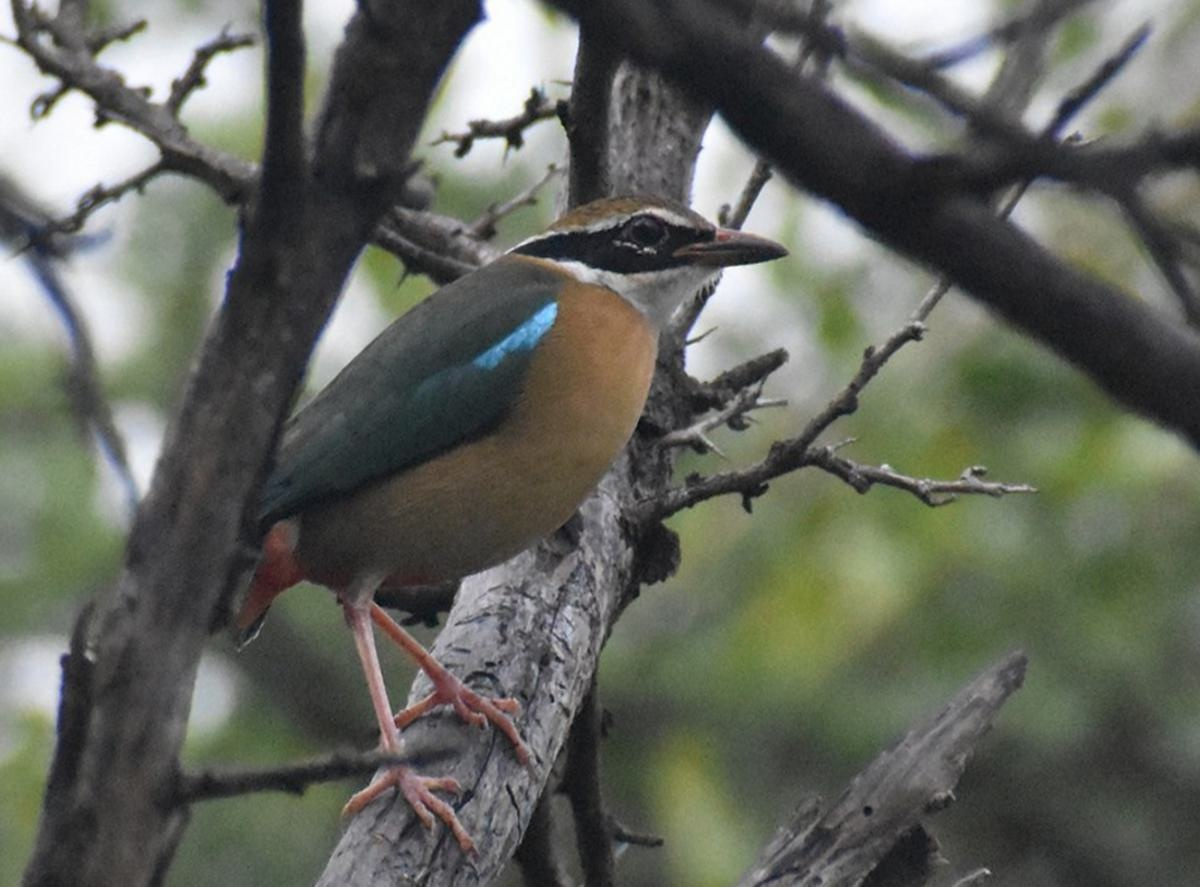pitta: (177, 195, 789, 700)
